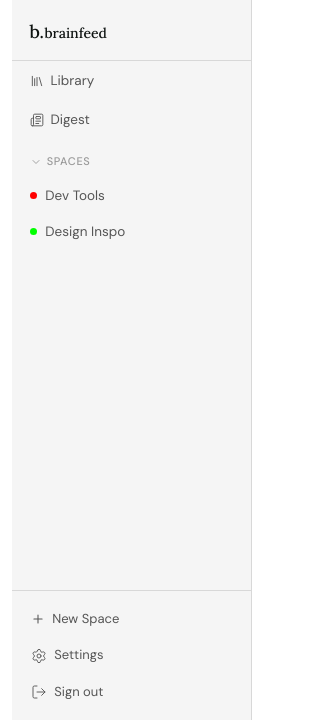
Sidebar › spaces section can be toggled open/closed
Expected: the text "Dev Tools" is shown, [45, 187, 105, 204]
# Click the "Spaces" section header to collapse
Click the button "Spaces" at (132, 162), box [12, 150, 251, 175]
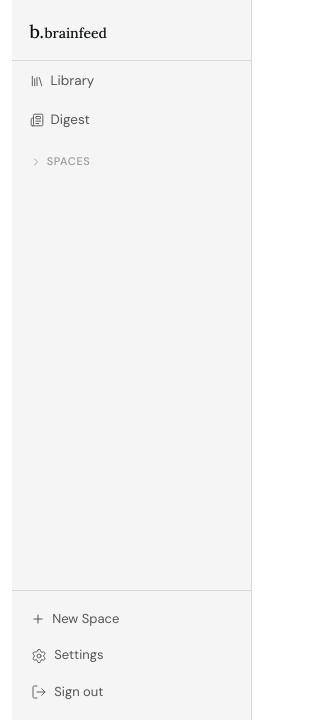
Now the link "Dev Tools" is gone
# Click again to expand
Click the button "Spaces" at (132, 162), box [12, 150, 251, 175]
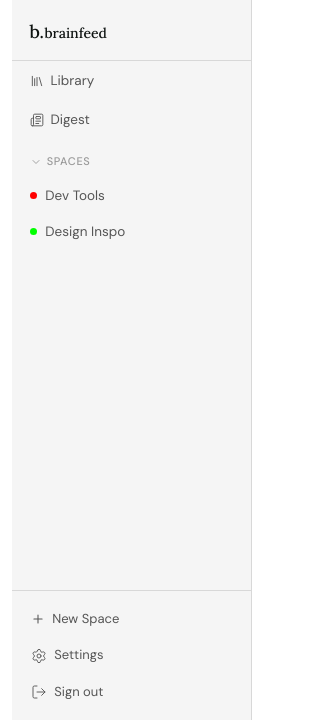
Now the text "Dev Tools" is shown, box [45, 187, 105, 204]
